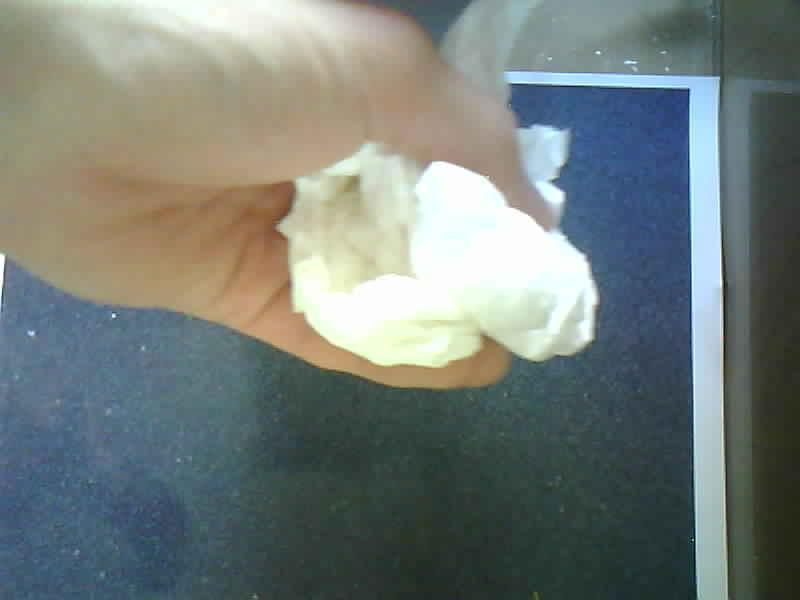paper: (278, 123, 597, 367), (468, 262, 475, 266)
